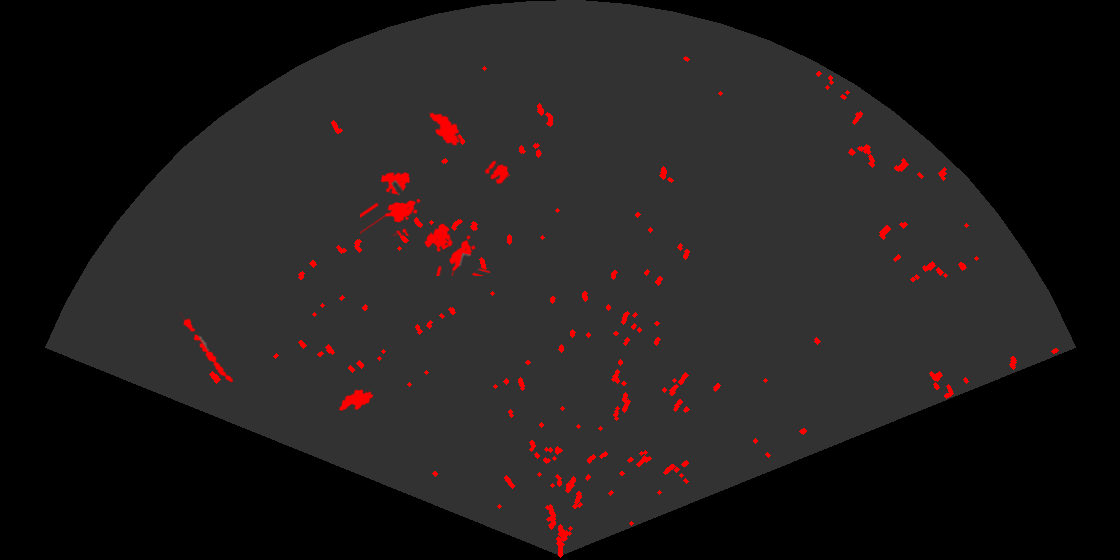AUV: (428, 111, 461, 147), (337, 388, 375, 413)
ball: (483, 159, 510, 186)
cage: (360, 171, 422, 236), (422, 222, 490, 276)
chain: (177, 312, 235, 384)
